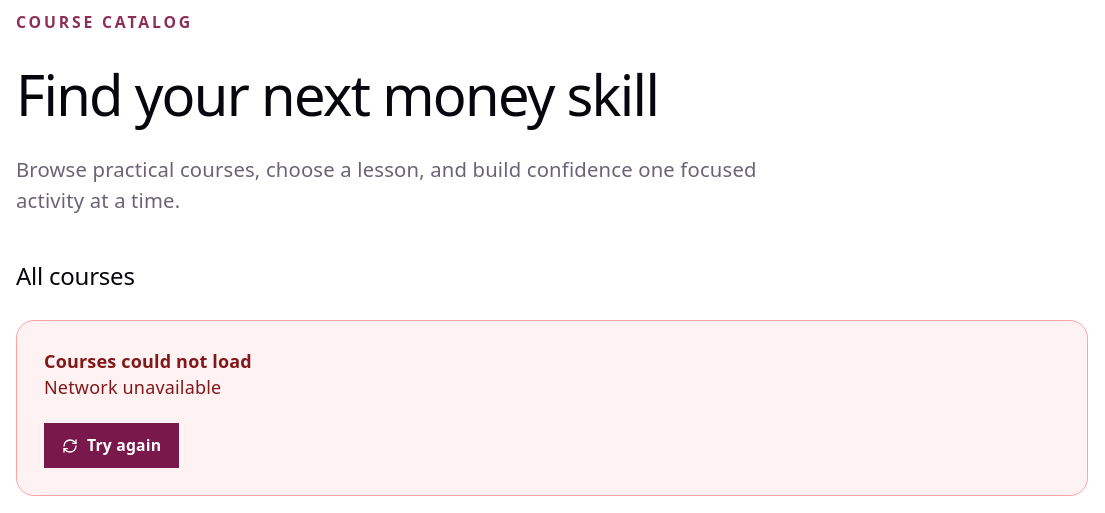
Test case: course catalog › shows an error and retries the request
Expected: the heading "Courses could not load" is shown, [44, 349, 252, 373]
Click the button "Try again".
click(112, 446)  # box [44, 423, 179, 468]
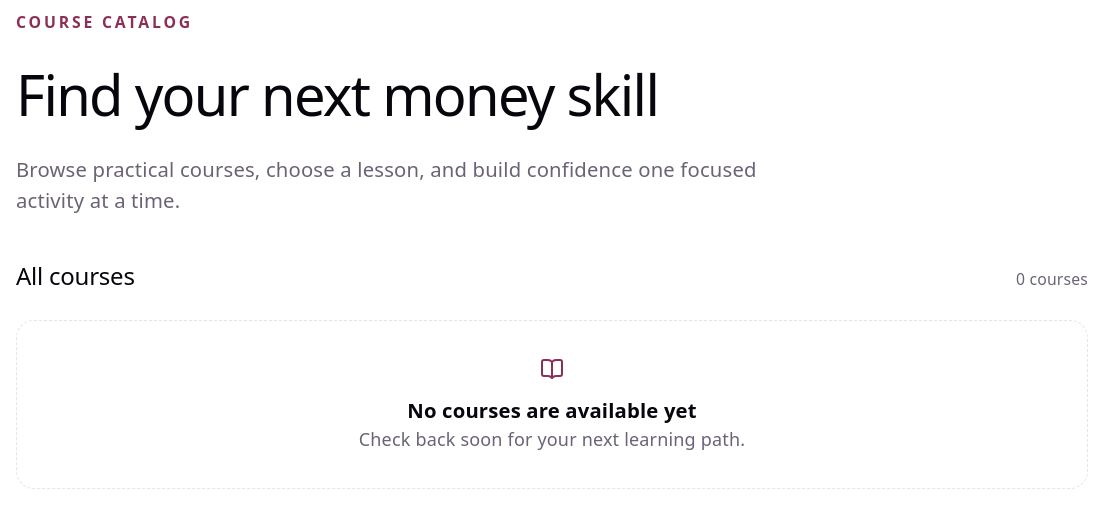
Expected: the heading "No courses are available yet" is shown, [407, 396, 697, 424]
